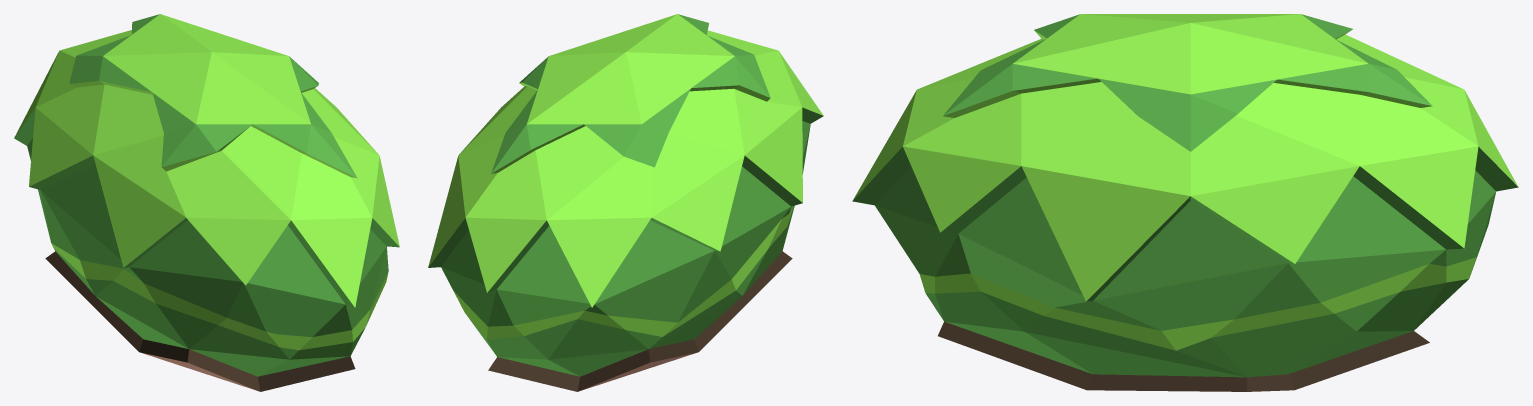
The model's file is bush1.fbx.
3 views of the same model, side by side, from view 1: azimuth 30°, elevation 25°; view 2: azimuth 150°, elevation 25°; view 3: azimuth 270°, elevation 25° (orthographic). The views are drawn at different scales.
Parts seen in each view (by area): view 1: Icosphere; view 2: Icosphere; view 3: Icosphere.
Boxes of the visible parts, box(x1,y1,x2,y2) form: Icosphere: box(14, 14, 399, 391); Icosphere: box(428, 14, 823, 391); Icosphere: box(852, 14, 1518, 391).
Bounding box in the file's own units: 208 × 223 × 375.
